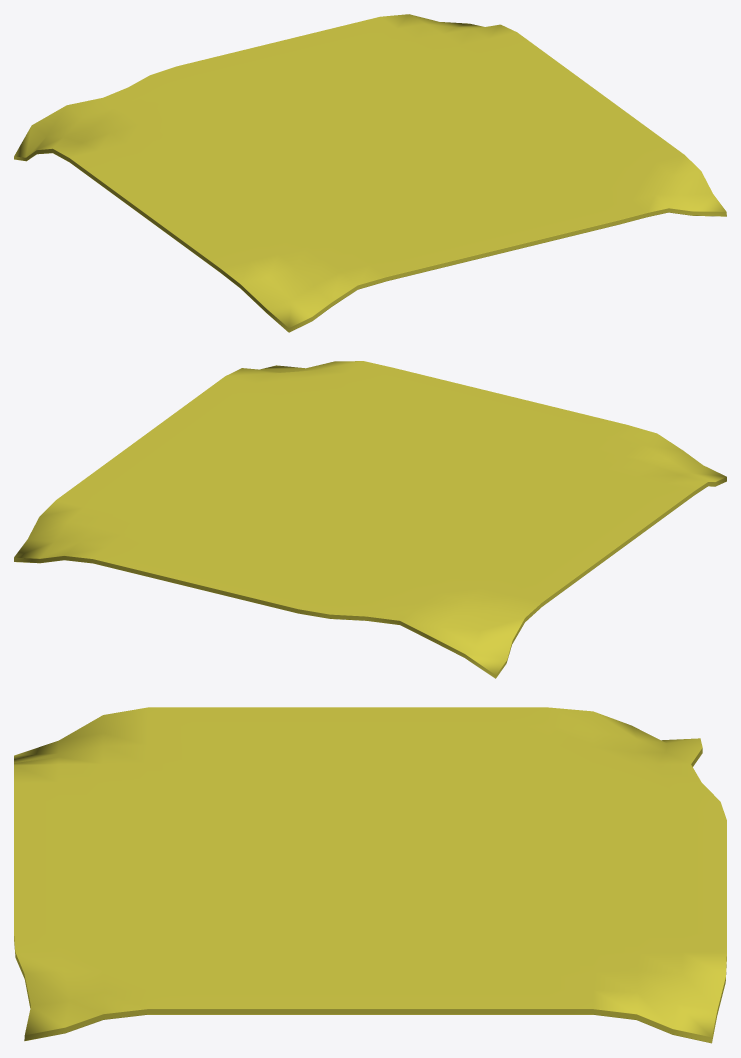
Rendered from cheese.fbx.
3 renders of one model, top to bottom at view 1: azimuth 30°, elevation 25°; view 2: azimuth 150°, elevation 25°; view 3: azimuth 270°, elevation 25°, orthographic. The views are drawn at different scales.
Visible parts, largest first — view 1: Cube; view 2: Cube; view 3: Cube.
Boxes of the visible parts, left/top/right/bottom form: Cube: left=14, top=14, right=726, bottom=332; Cube: left=14, top=361, right=726, bottom=678; Cube: left=14, top=707, right=726, bottom=1043.
Size of the model in its own units: 166 by 12.66 by 164.
